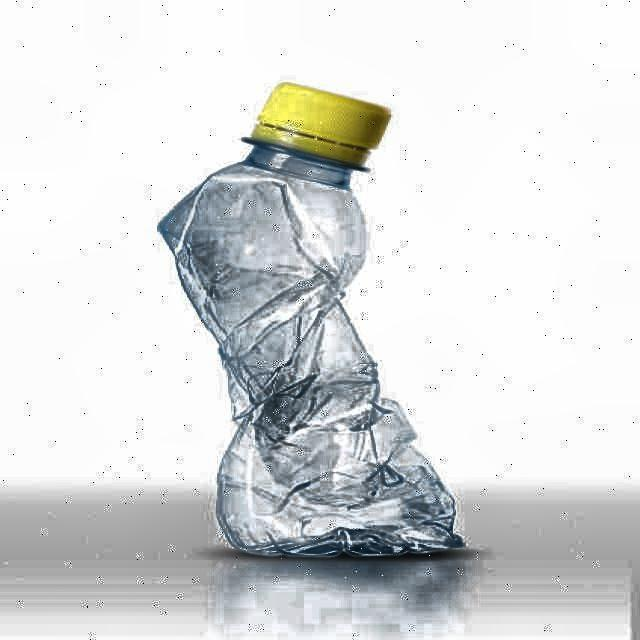plastic: (157, 64, 465, 560)
